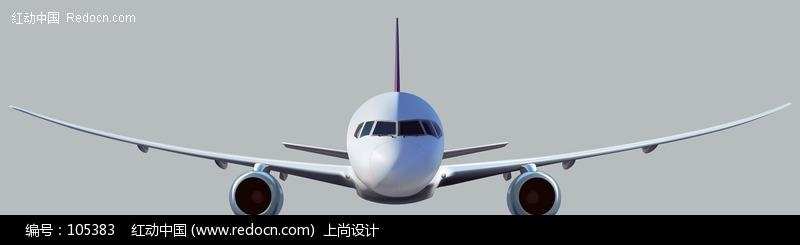airplane: (8, 18, 792, 213)
